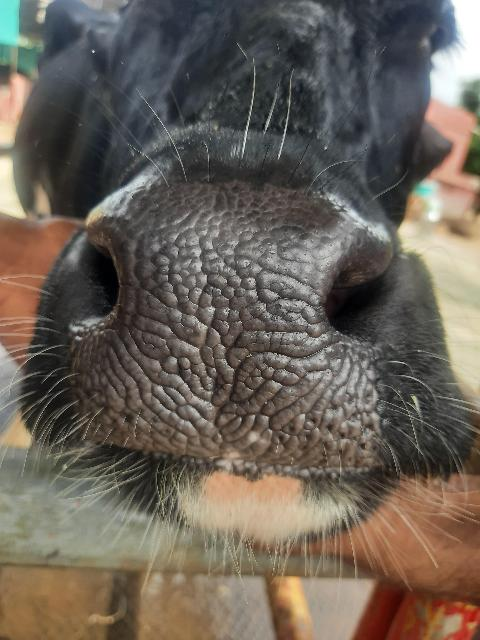Muzzle: (98, 192, 370, 468)
